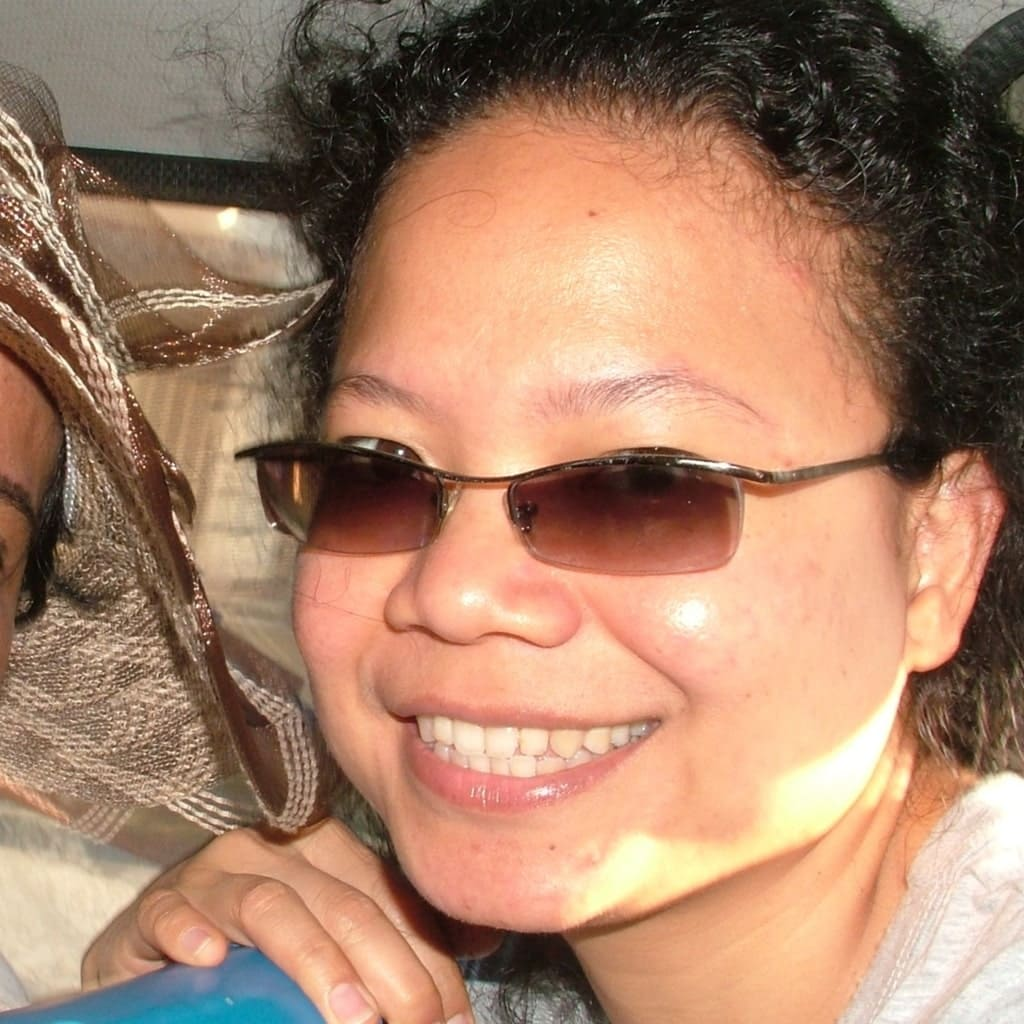without_mask: (330, 218, 791, 869)
